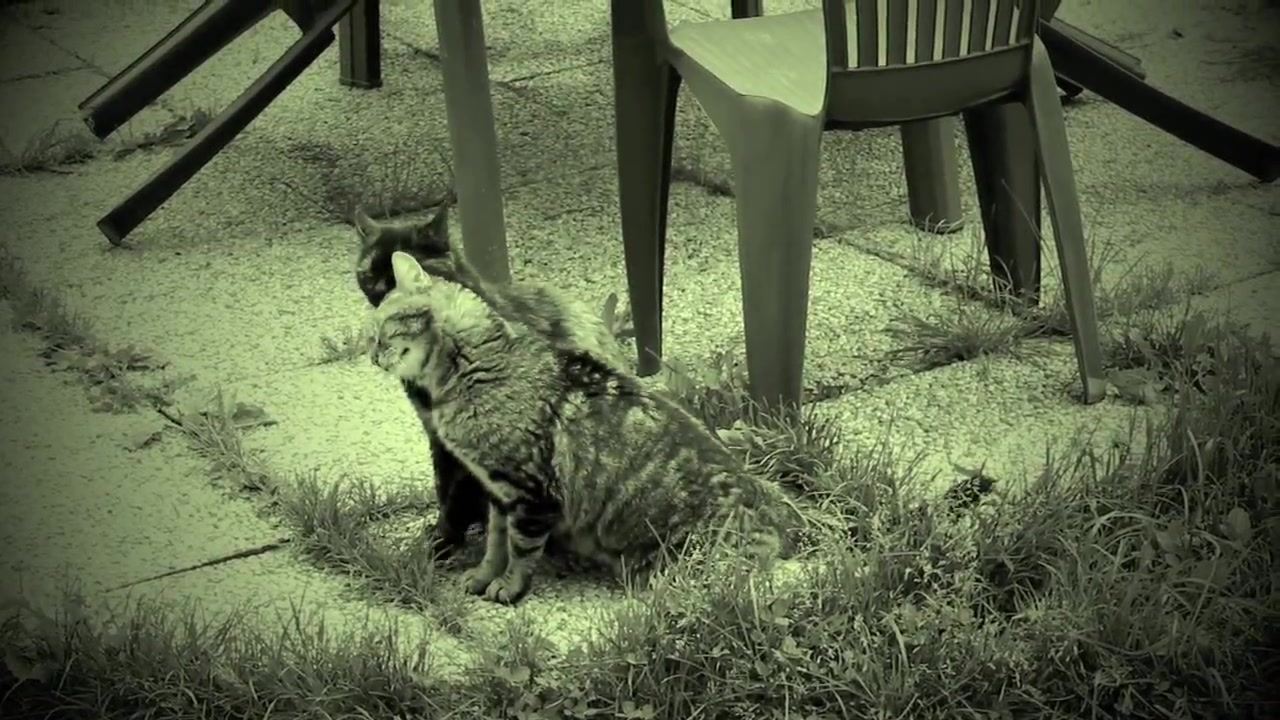cat: (359, 255, 997, 607)
